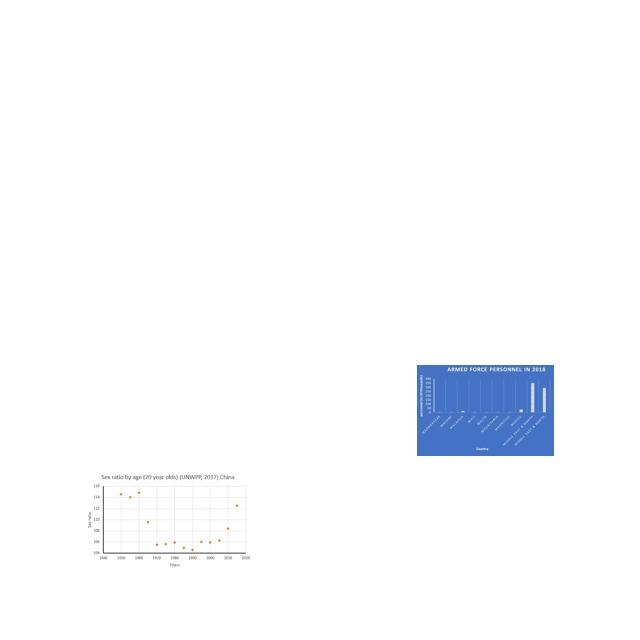Graph: (83, 471, 252, 570), (417, 365, 554, 456)
